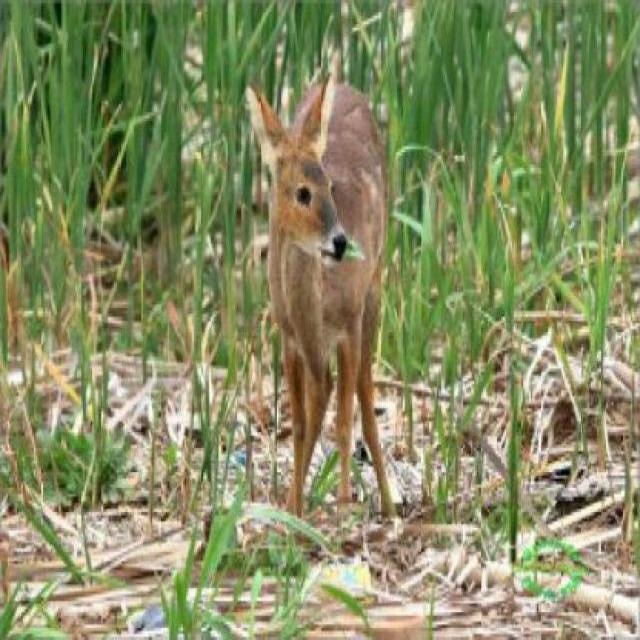deer: (238, 58, 400, 545)
